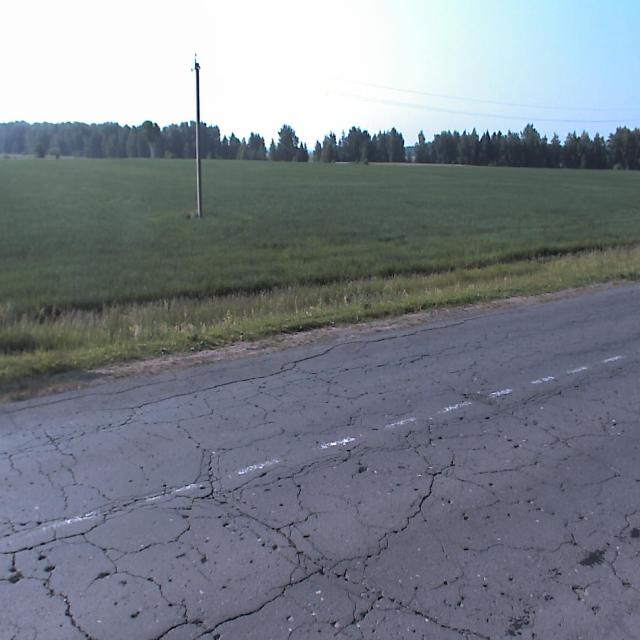road: (0, 282, 639, 639)
